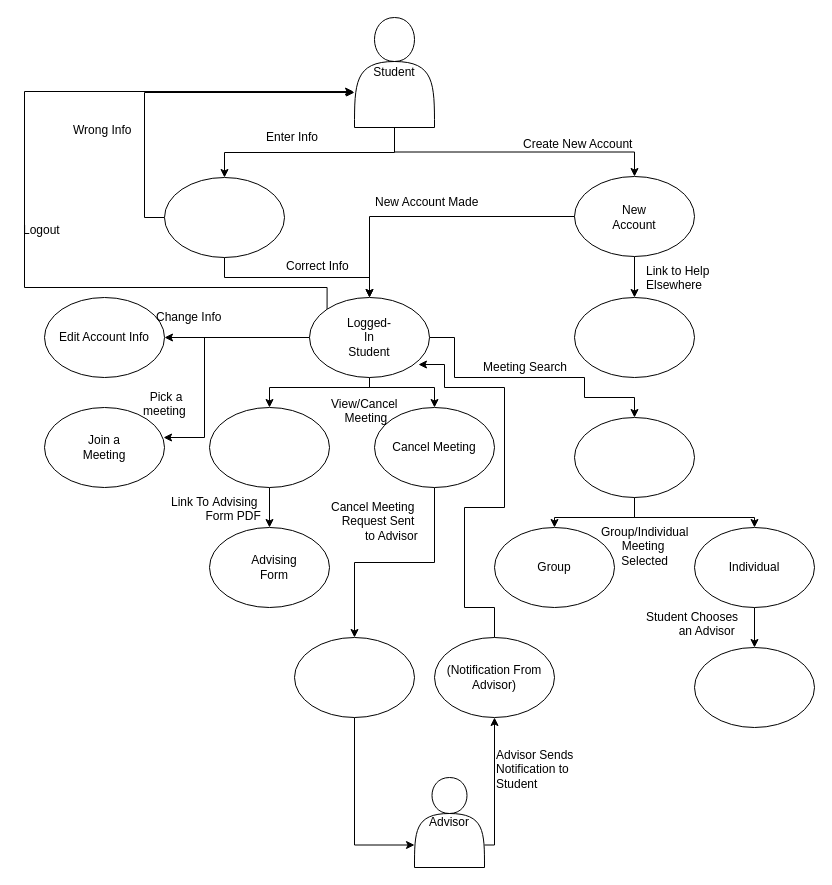
Some shapes in this 832 by 885 pixel diagram are drawn without their labels. Here are the shapes that lost their labels. From the top down, the centre of each, then its label:
point 224,217: Login
point 634,337: "Other" Major
point 269,447: View Meeting
point 634,457: Search For Meetings
point 354,677: (Request To Advisor)
point 754,687: Choose Advisor
